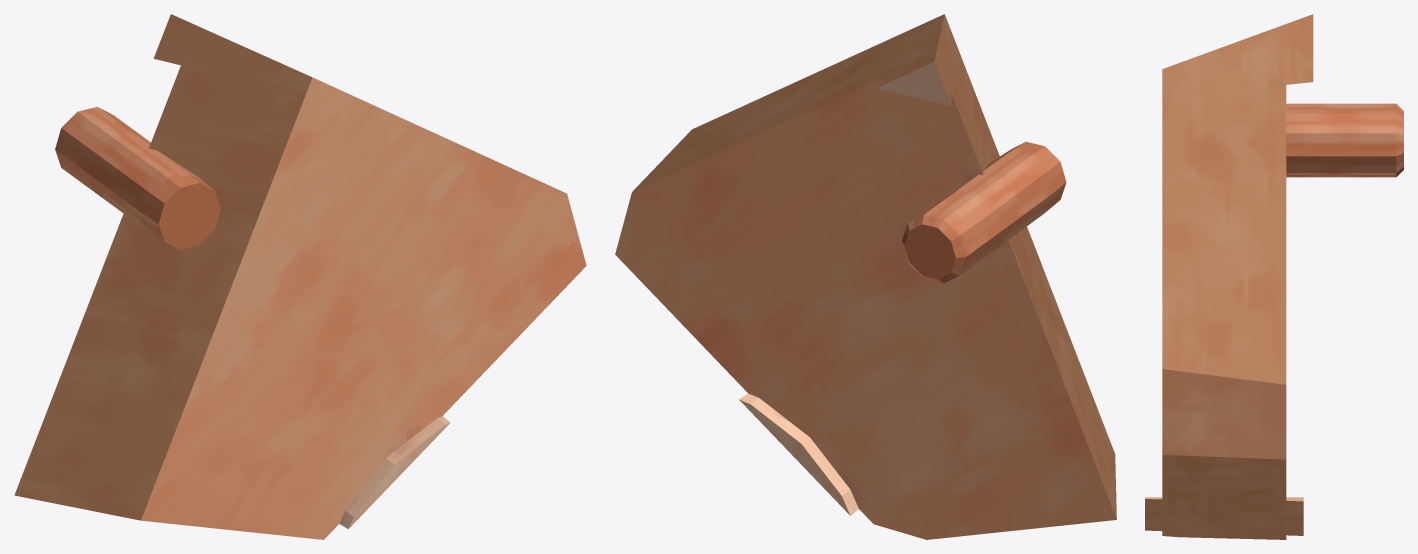
The model's file is wall2_upper_window_s11.fbx.
3 renders of one model, left to right at view 1: azimuth 30°, elevation 25°; view 2: azimuth 150°, elevation 25°; view 3: azimuth 270°, elevation 25°, orthographic.
Visible parts, largest first — view 1: wall2_upper_window_s11; view 2: wall2_upper_window_s11; view 3: wall2_upper_window_s11.
Part boxes in pixels (x1,y1,x2,y2): wall2_upper_window_s11: [14, 14, 586, 539]; wall2_upper_window_s11: [615, 14, 1116, 539]; wall2_upper_window_s11: [1145, 14, 1403, 539].
Bounding box in the file's own units: 4.72 × 4.39 × 2.09.
